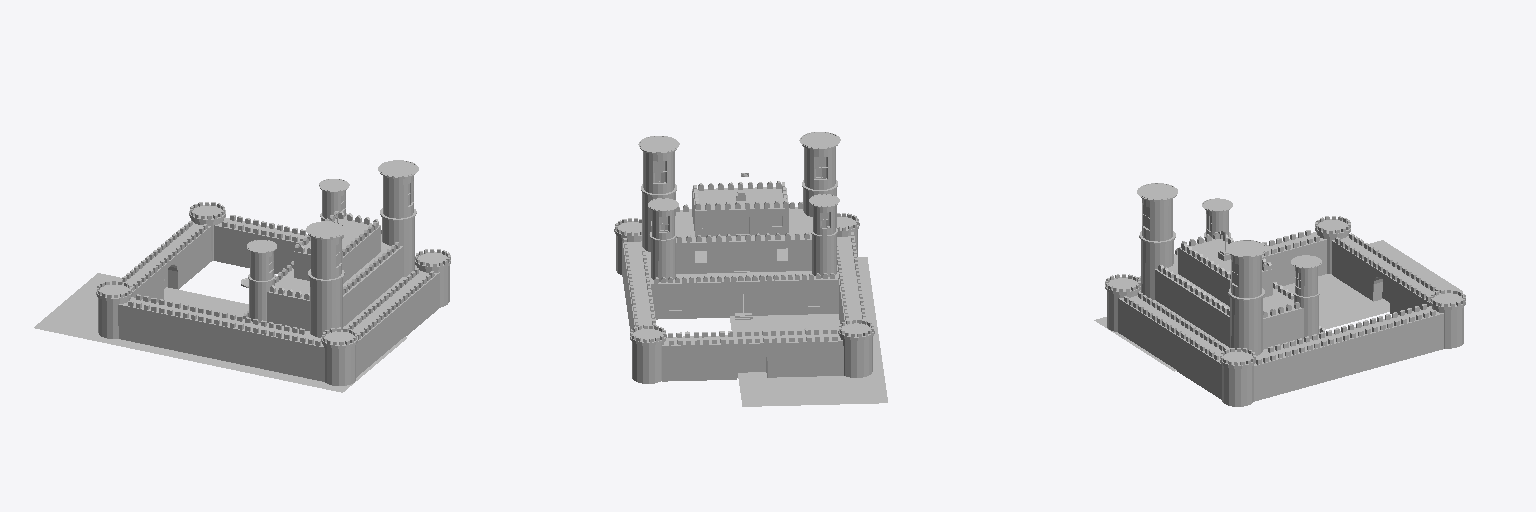
File: castle.obj
The picture shows the model from 3 angles: view 1: azimuth 30°, elevation 25°; view 2: azimuth 150°, elevation 25°; view 3: azimuth 270°, elevation 25°; orthographic projection.
Parts seen in each view (by area): view 1: Castle_OBJ; view 2: Castle_OBJ, Plane.006, Plane.007; view 3: Castle_OBJ.
Boxes of the visible parts, x1,y1,x2,y2 form: Castle_OBJ: [34, 160, 450, 392]; Castle_OBJ: [614, 132, 887, 406]; Plane.006: [768, 346, 843, 376]; Plane.007: [662, 357, 737, 379]; Castle_OBJ: [1094, 183, 1465, 406].
Bounding box in the file's own units: 2.88 × 1.1 × 2.71.